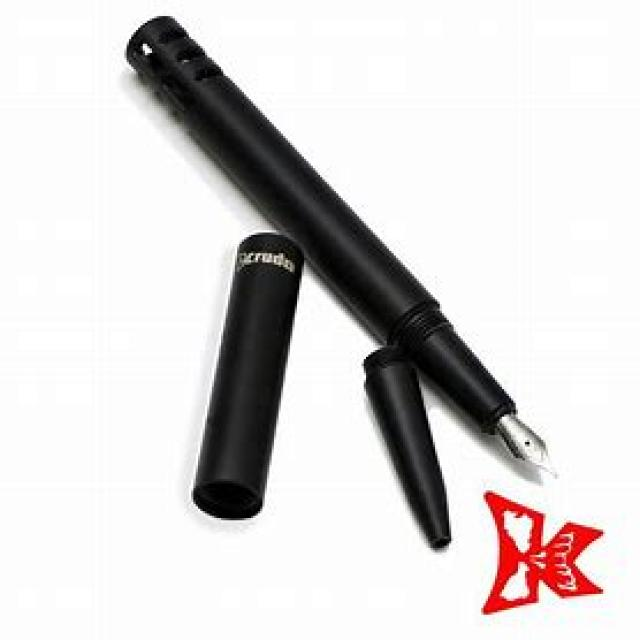pen: (123, 17, 561, 550)
